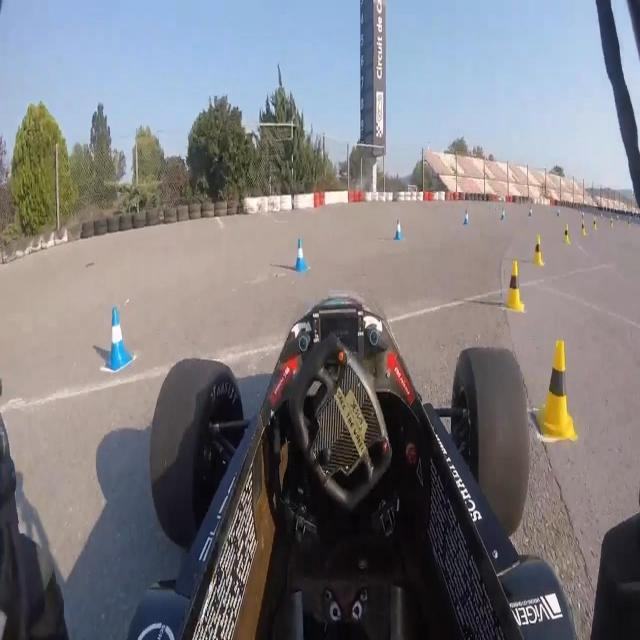blue_cone: (100, 300, 135, 372), (294, 239, 310, 274), (393, 215, 404, 243), (461, 206, 471, 229), (501, 205, 506, 221), (528, 205, 534, 218)
yellow_cone: (536, 332, 574, 449), (503, 260, 524, 312), (532, 235, 545, 269), (561, 224, 572, 248), (580, 220, 585, 238), (592, 216, 598, 231)
